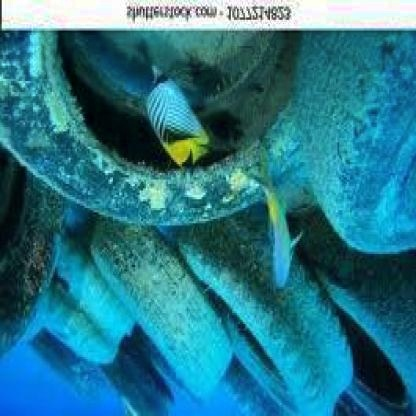tire: (1, 24, 283, 199), (212, 219, 367, 407), (72, 224, 223, 396), (2, 146, 58, 342)
